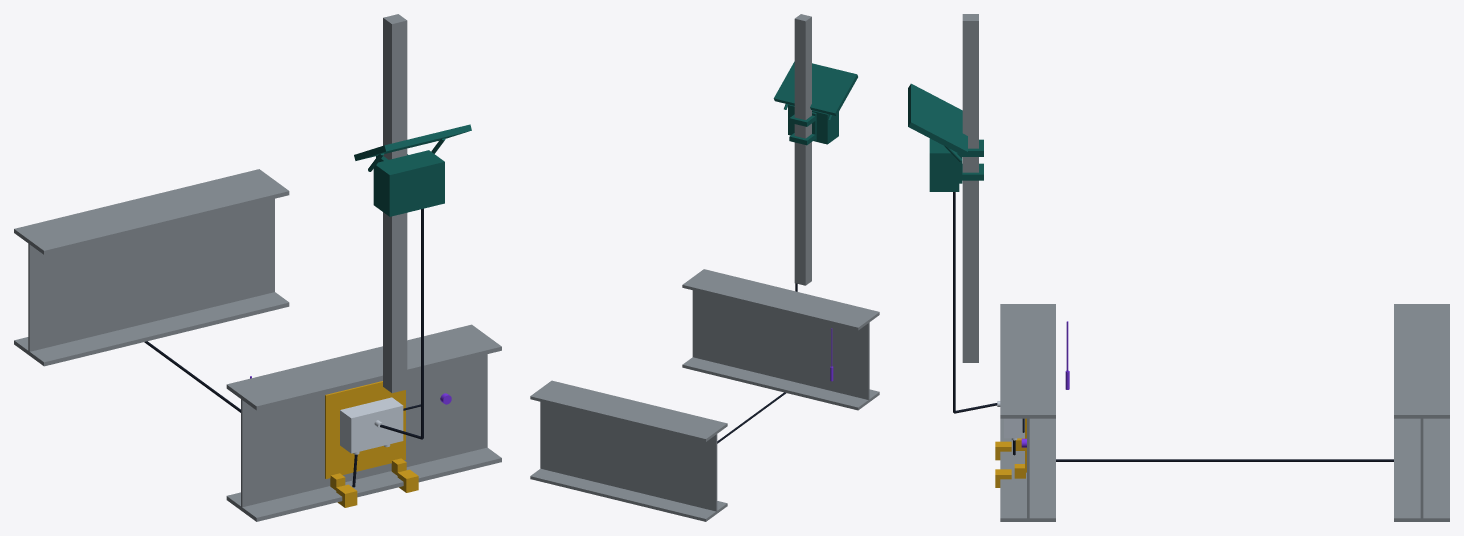
3 views of the same model, side by side, from view 1: azimuth 30°, elevation 25°; view 2: azimuth 150°, elevation 25°; view 3: azimuth 270°, elevation 25° (orthographic). The views are drawn at different scales.
Parts seen in each view (by area): view 1: Existing girders and post at midspan (not in kit), FieldNode core (6 W panel, cell, radio), Mounting plate and beam clamps, Sensor hub enclosure, IP67 die-cast, Sensor cables, M12, shielded; view 2: Existing girders and post at midspan (not in kit), FieldNode core (6 W panel, cell, radio); view 3: Existing girders and post at midspan (not in kit), FieldNode core (6 W panel, cell, radio), Sensor cables, M12, shielded, Mounting plate and beam clamps.
Boxes of the visible parts, x1=… form: Existing girders and post at midspan (not in kit): x1=14, y1=14, x2=501, y2=521; FieldNode core (6 W panel, cell, radio): x1=354, y1=124, x2=471, y2=216; Mounting plate and beam clamps: x1=325, y1=381, x2=418, y2=507; Sensor hub enclosure, IP67 die-cast: x1=340, y1=397, x2=403, y2=454; Sensor cables, M12, shielded: x1=144, y1=208, x2=423, y2=487; Existing girders and post at midspan (not in kit): x1=530, y1=14, x2=879, y2=521; FieldNode core (6 W panel, cell, radio): x1=773, y1=61, x2=857, y2=145; Existing girders and post at midspan (not in kit): x1=962, y1=14, x2=1449, y2=521; FieldNode core (6 W panel, cell, radio): x1=908, y1=83, x2=983, y2=191; Sensor cables, M12, shielded: x1=953, y1=192, x2=1393, y2=461; Mounting plate and beam clamps: x1=995, y1=418, x2=1026, y2=487.
Bounding box in the file's own units: 0.8 × 1.53 × 1.65.
